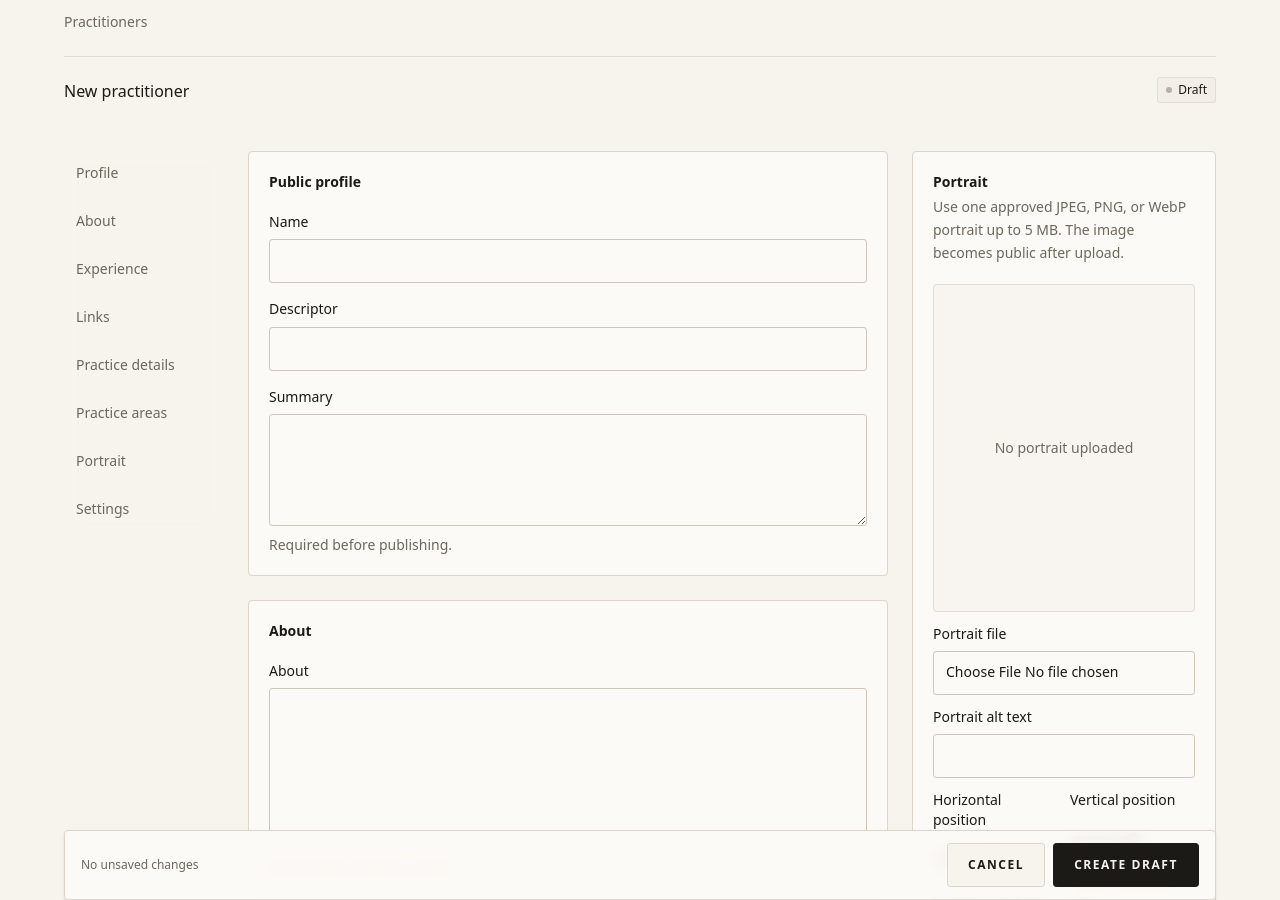
Test: practitioner draft workflow › generates an accent-safe editable slug from a new name
Step 1. Type "Áine O’Connor & Co" into the field labelled "Name" → (568, 261), box [269,239,867,283]
(page scrolled)
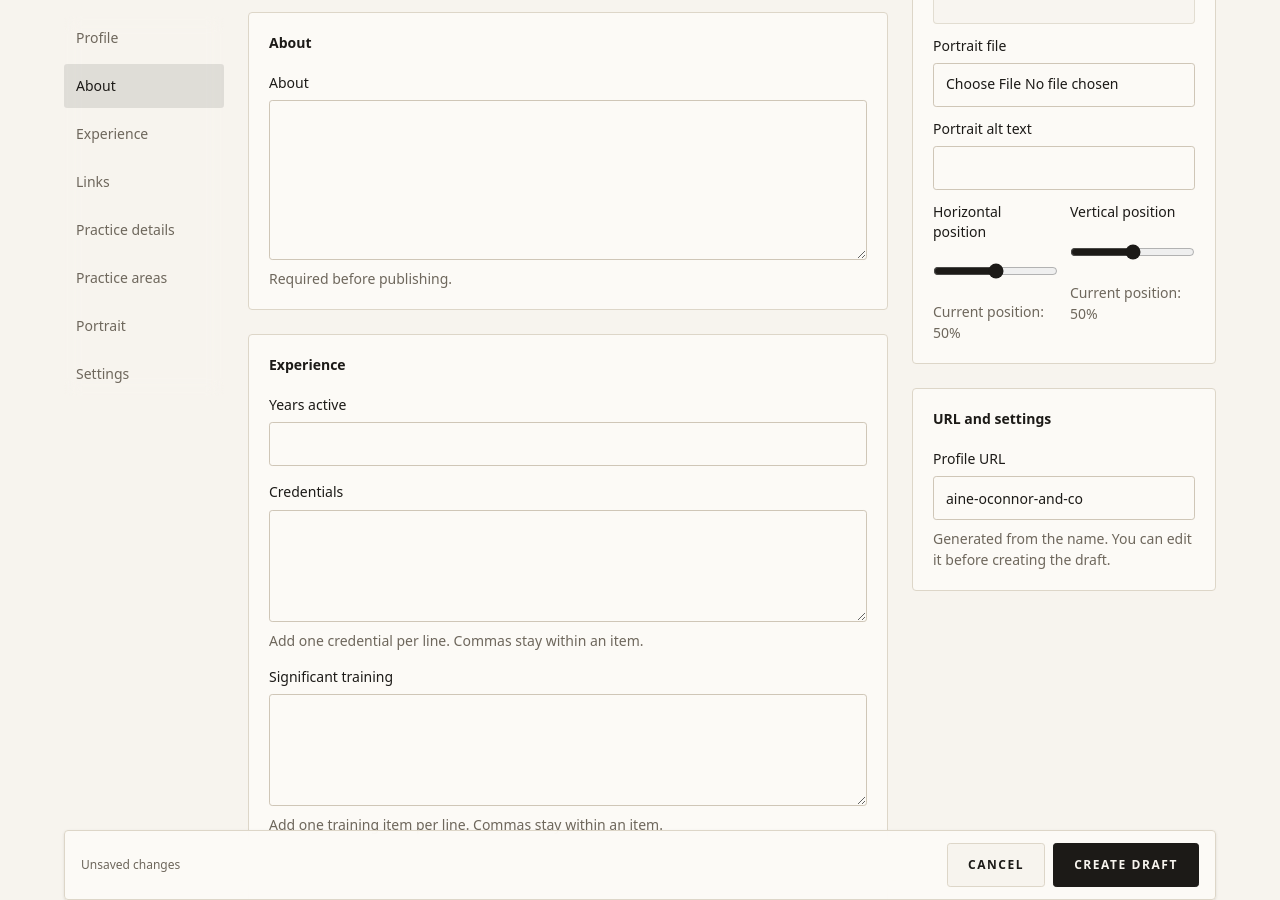
Now the field labelled "Profile URL" holds "aine-oconnor-and-co", box [933,476,1195,520]
